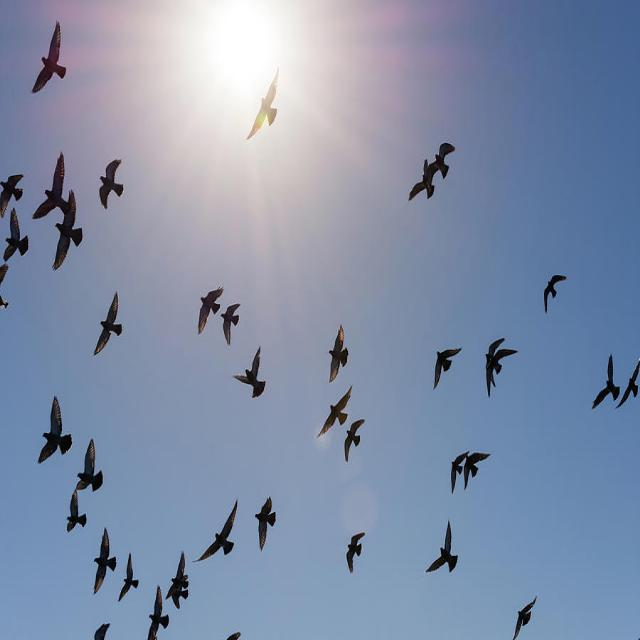bird: (244, 70, 284, 144), (200, 498, 240, 563), (52, 198, 84, 274), (36, 24, 69, 94), (41, 398, 74, 466), (36, 154, 68, 224), (314, 384, 354, 436), (481, 340, 516, 396), (232, 345, 266, 402), (592, 352, 624, 410), (95, 292, 123, 356), (428, 521, 460, 576), (451, 451, 493, 491), (93, 526, 116, 599), (76, 440, 104, 499), (434, 346, 466, 394), (197, 286, 226, 336), (166, 552, 190, 611), (409, 151, 436, 203), (100, 161, 128, 210), (328, 322, 350, 384), (253, 494, 276, 552), (5, 209, 28, 264), (1, 172, 28, 218), (218, 298, 244, 344), (149, 586, 172, 637), (118, 552, 141, 602), (512, 597, 540, 637), (543, 274, 571, 314), (66, 489, 90, 535), (428, 137, 452, 182), (343, 416, 366, 460), (623, 356, 640, 412), (347, 531, 369, 574), (89, 622, 113, 640), (222, 630, 245, 639)
